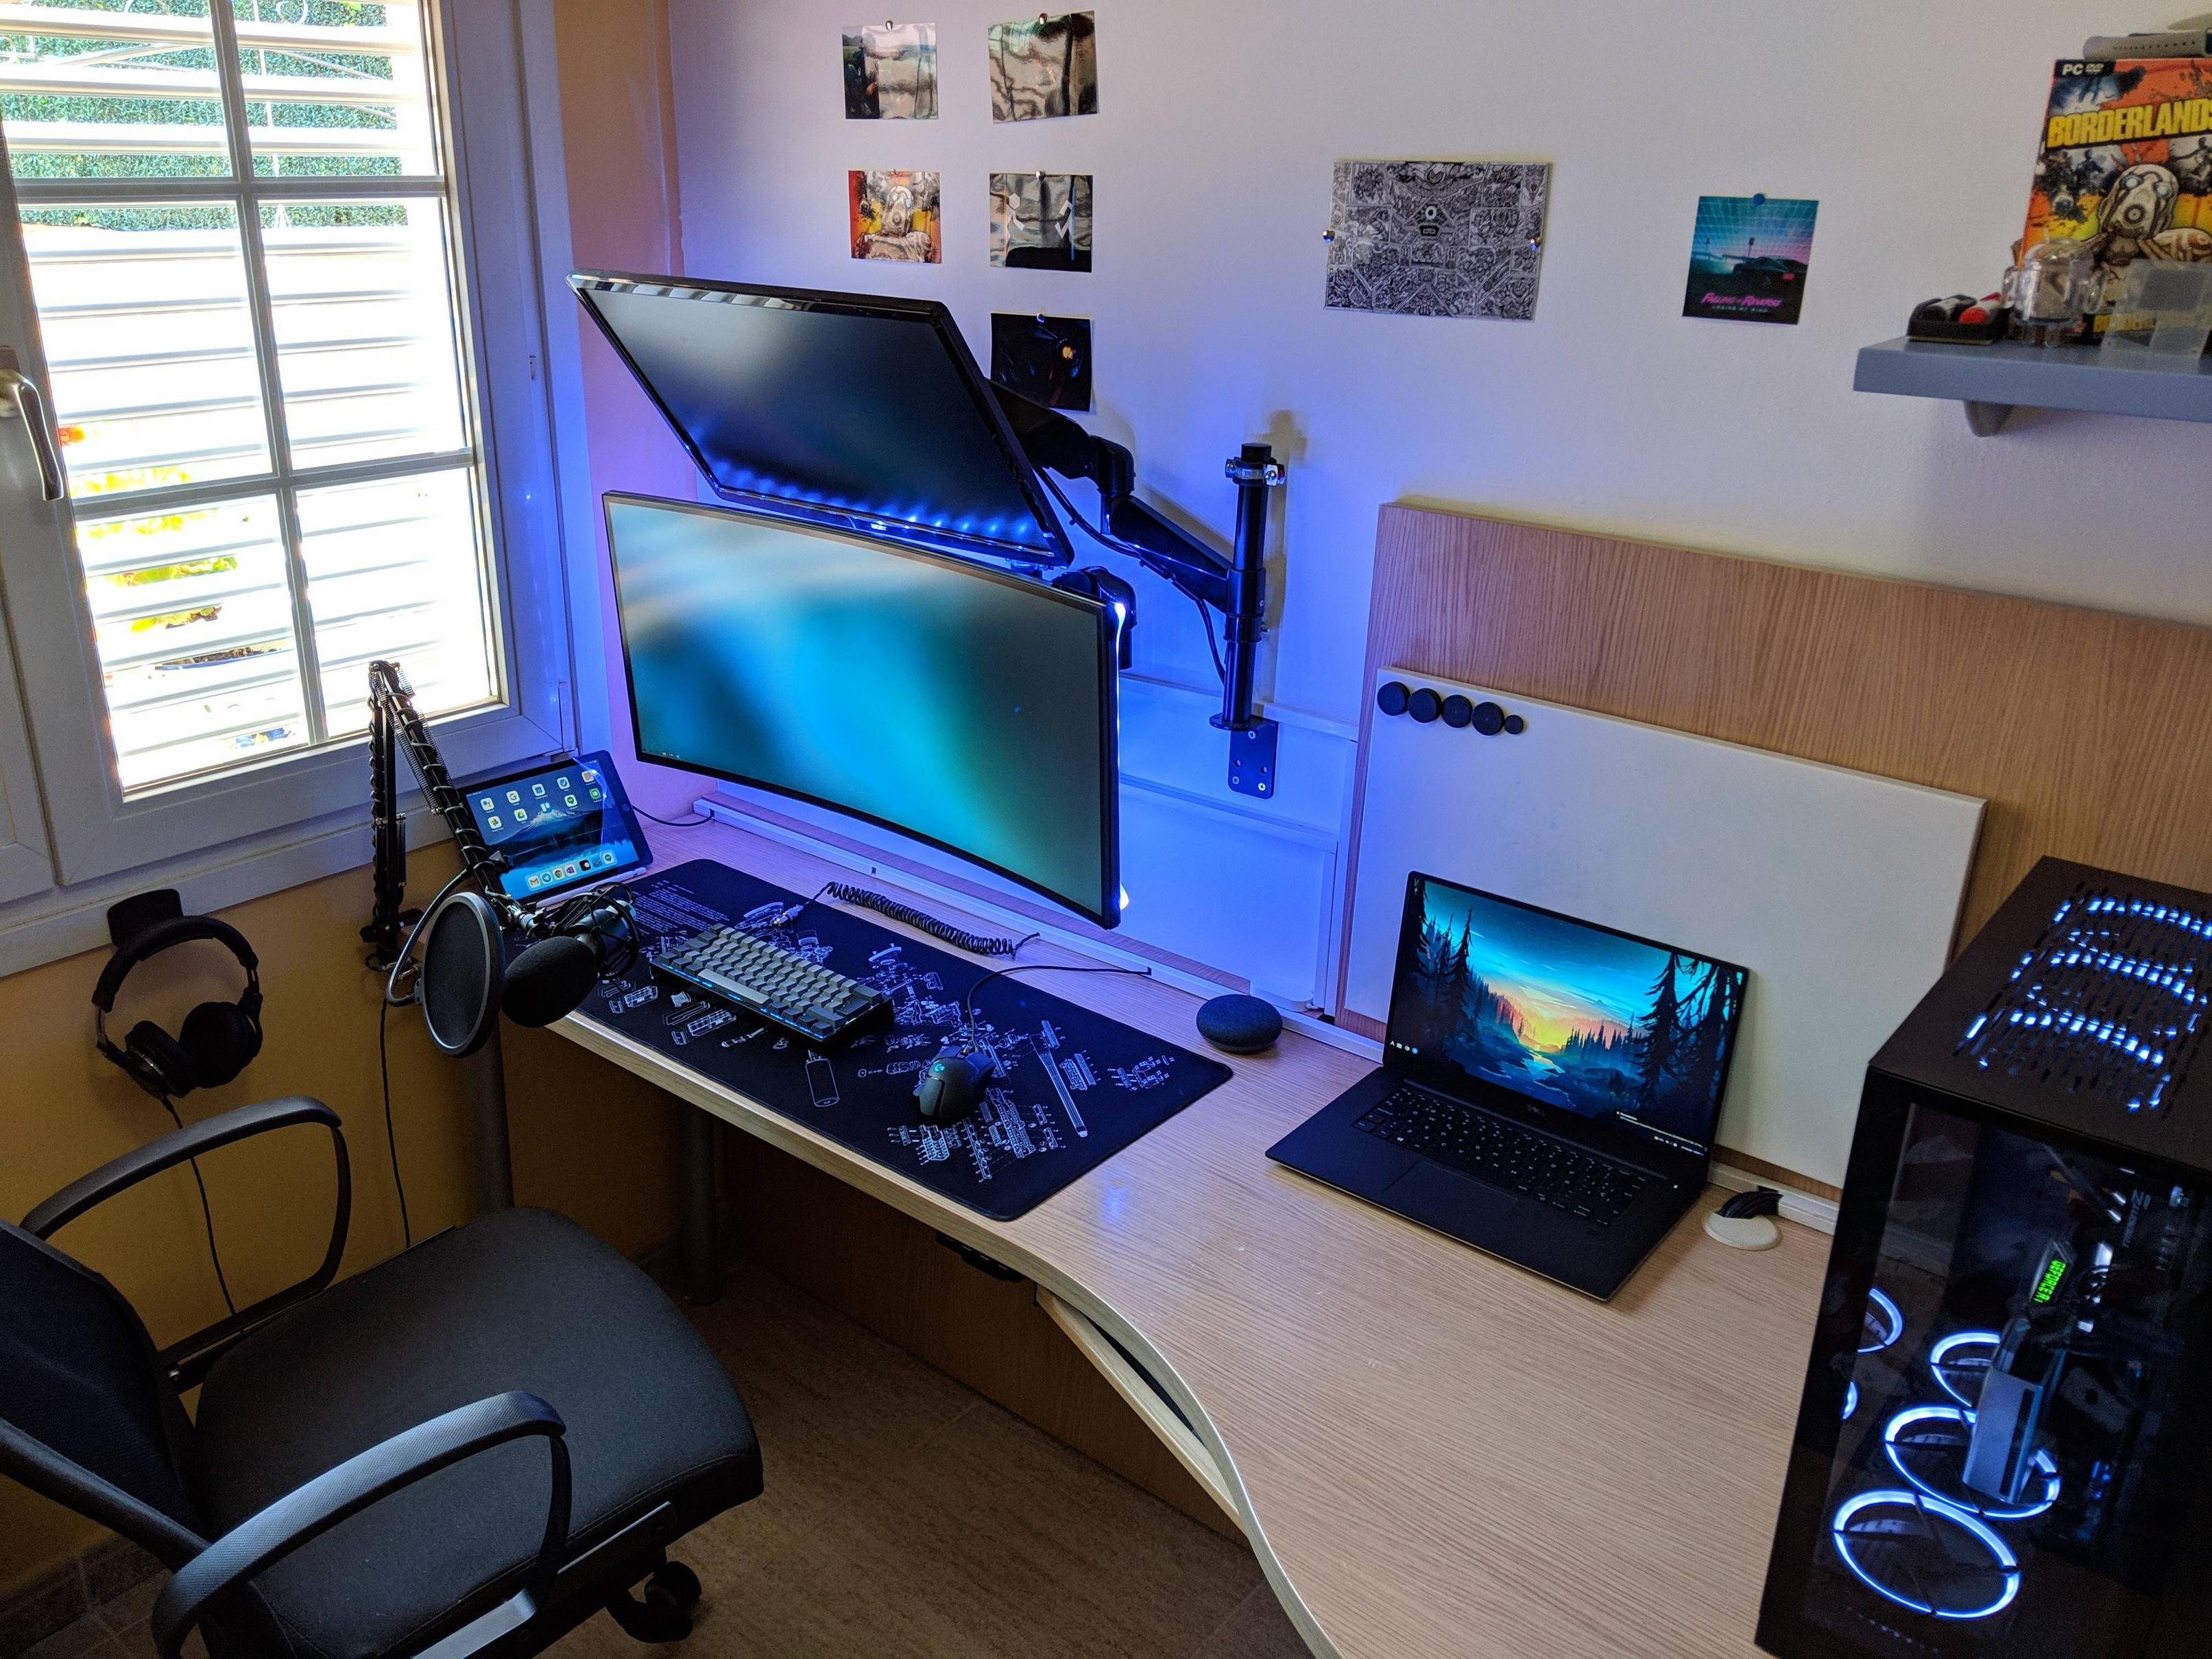Chair (Generic): (0, 1098, 770, 1649)
Desk (Generic): (469, 756, 2195, 1656)
Desktop (Generic): (1737, 854, 2212, 1649)
External Microphone (with Boom Arm): (397, 866, 636, 1033)
Headphones: (80, 925, 286, 1093)
IoT Devices (Raspberry, Arduino, etc): (1184, 986, 1296, 1060)
Keyboard (Gaming): (644, 906, 897, 1060)
Laptop (Windows): (1251, 962, 1757, 1178)
Monitor (Landscape): (599, 486, 1120, 925), (564, 268, 1071, 563)
Monitor (Laptop): (1388, 878, 1721, 1166)
Monitor Arm: (1122, 425, 1312, 749)
Mouse (Gaming): (906, 1026, 1015, 1127)
Mousepad (Gaming): (505, 885, 1238, 1108)
Tablet (iPad): (451, 758, 665, 889)
